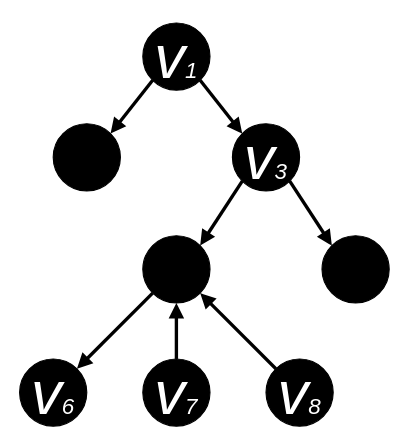
The diagram is 409 pixels wide and 448 high, and some of its shapes have lost their labels. The box of each missing label's shape, as (x1, y1, x2, y2) in pixels:
v 2: (52, 123, 120, 191)
v 4: (142, 235, 210, 303)
v 5: (321, 235, 389, 303)
